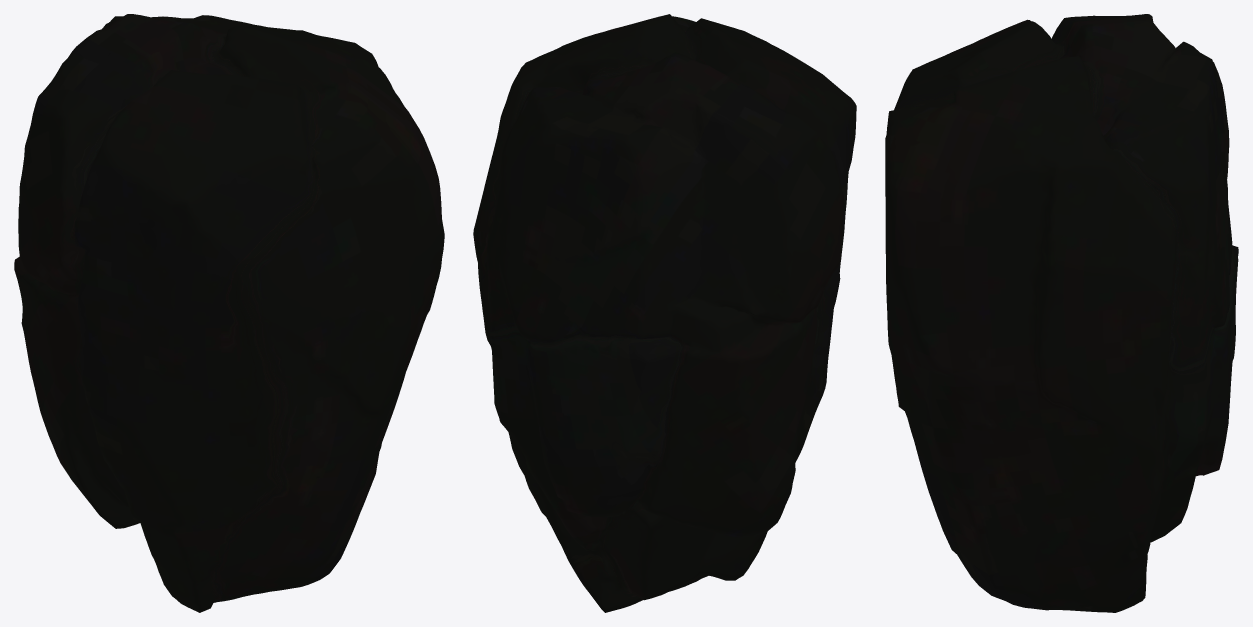
The picture shows the model from 3 angles, left to right: view 1: azimuth 30°, elevation 25°; view 2: azimuth 150°, elevation 25°; view 3: azimuth 270°, elevation 25°; orthographic projection. The views are drawn at different scales.
Visible parts, largest first — view 1: SM_BM_LimestoneMid_02_LOD0; view 2: SM_BM_LimestoneMid_02_LOD0; view 3: SM_BM_LimestoneMid_02_LOD0.
Boxes of the visible parts, bbox=[...] form: SM_BM_LimestoneMid_02_LOD0: bbox=[14, 14, 444, 612]; SM_BM_LimestoneMid_02_LOD0: bbox=[473, 14, 856, 612]; SM_BM_LimestoneMid_02_LOD0: bbox=[885, 14, 1238, 612].
Bounding box in the file's own units: 2.77 × 4.45 × 2.58.
Materials: 1 (1 with a texture image).
